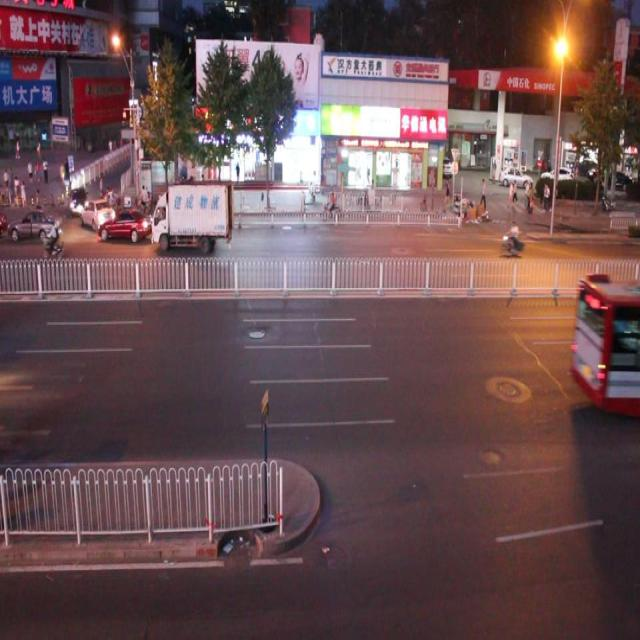bus: (151, 185, 233, 250)
car: (166, 185, 223, 232), (11, 202, 65, 241), (98, 208, 151, 242), (82, 198, 115, 230), (70, 185, 90, 218)
van: (570, 277, 640, 409)
